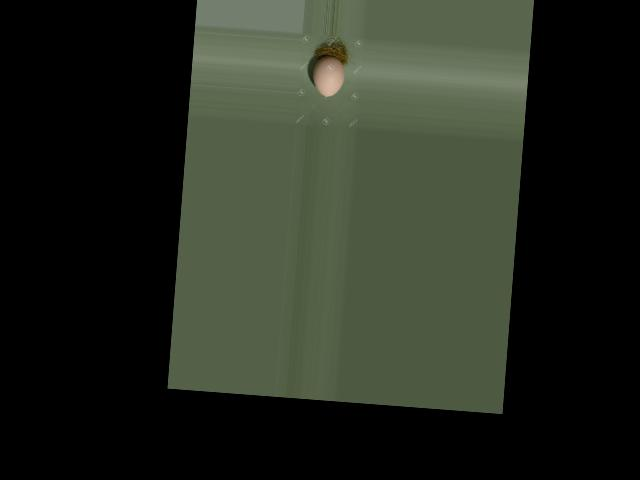egg: (311, 55, 345, 98)
